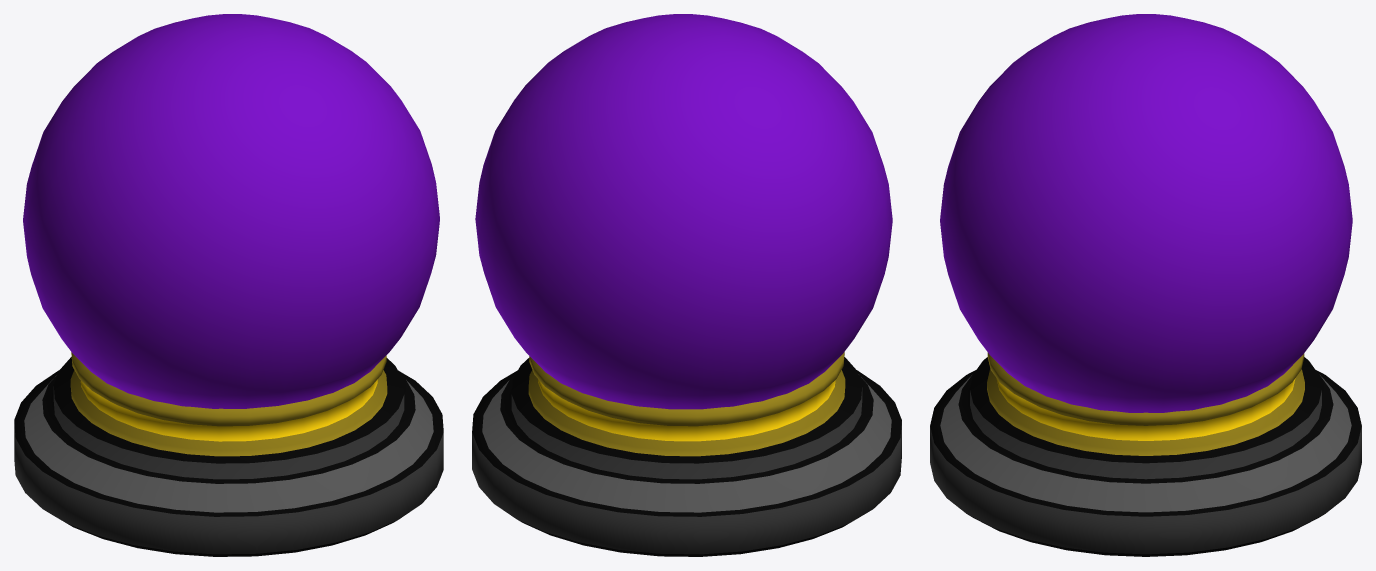
Rendered from BolaCristal.fbx.
3 views of the same model, side by side, from view 1: azimuth 30°, elevation 25°; view 2: azimuth 150°, elevation 25°; view 3: azimuth 270°, elevation 25° (orthographic).
Parts seen in each view (by area): view 1: BolaCristal; view 2: BolaCristal; view 3: BolaCristal.
Boxes of the visible parts, <box> form: BolaCristal: <box>14,14,443,556</box>; BolaCristal: <box>472,14,901,556</box>; BolaCristal: <box>930,14,1361,556</box>.
Size of the model in its own units: 317 by 354 by 317.
